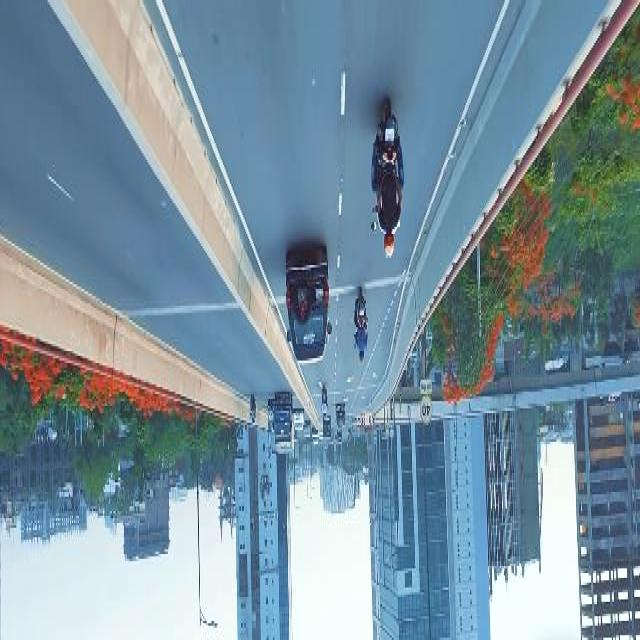black: (284, 250, 330, 361)
